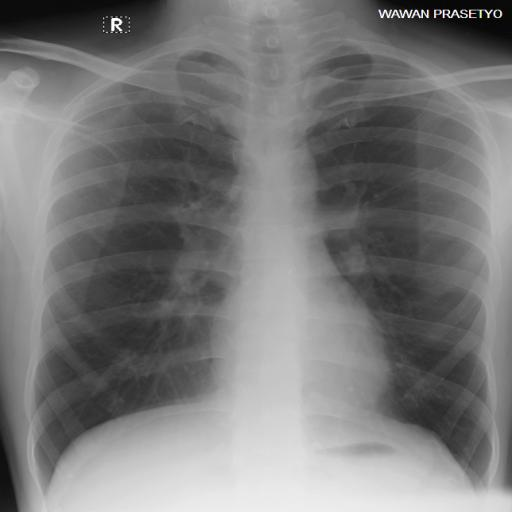normal: (18, 22, 506, 505)
